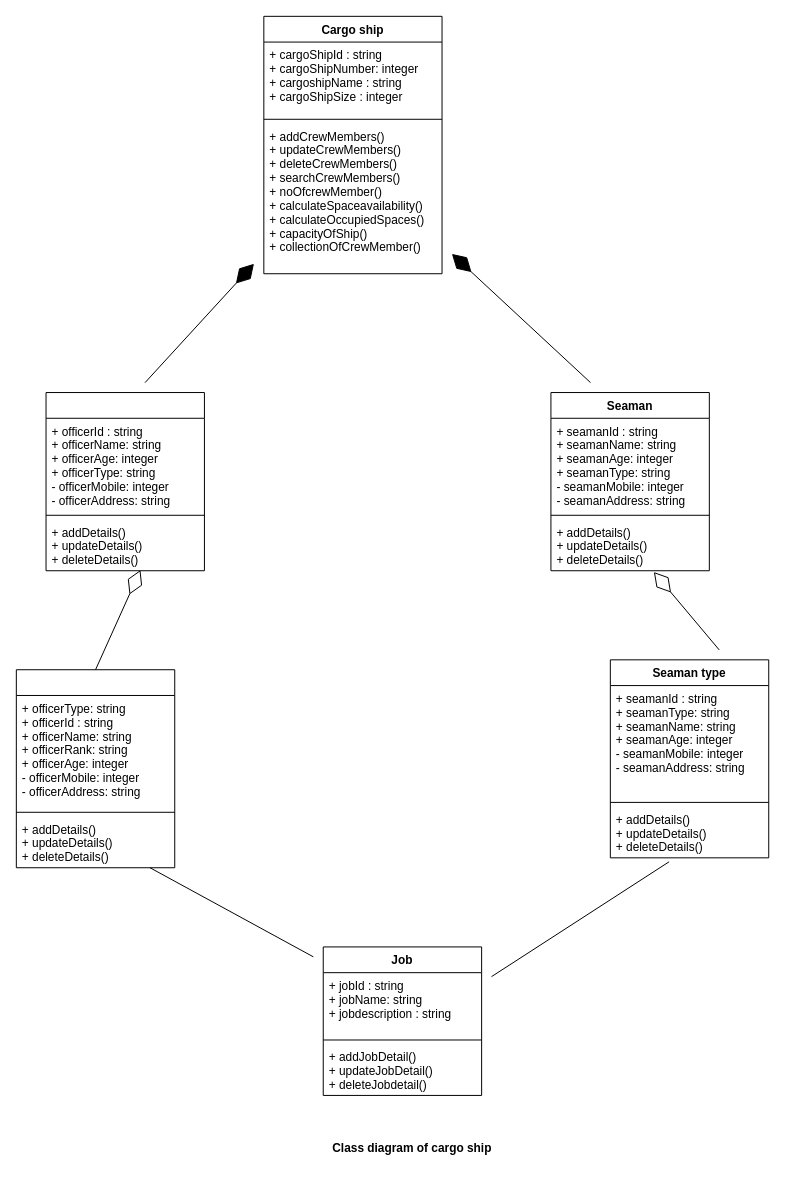
The diagram is 785 pixels wide and 1177 high, and some of its shapes have lost their labels. Here are the shapes that lost their labels. From the top down, the box of each, then its label:
(45, 392, 204, 571): Officers
(15, 669, 175, 868): Officers Type
